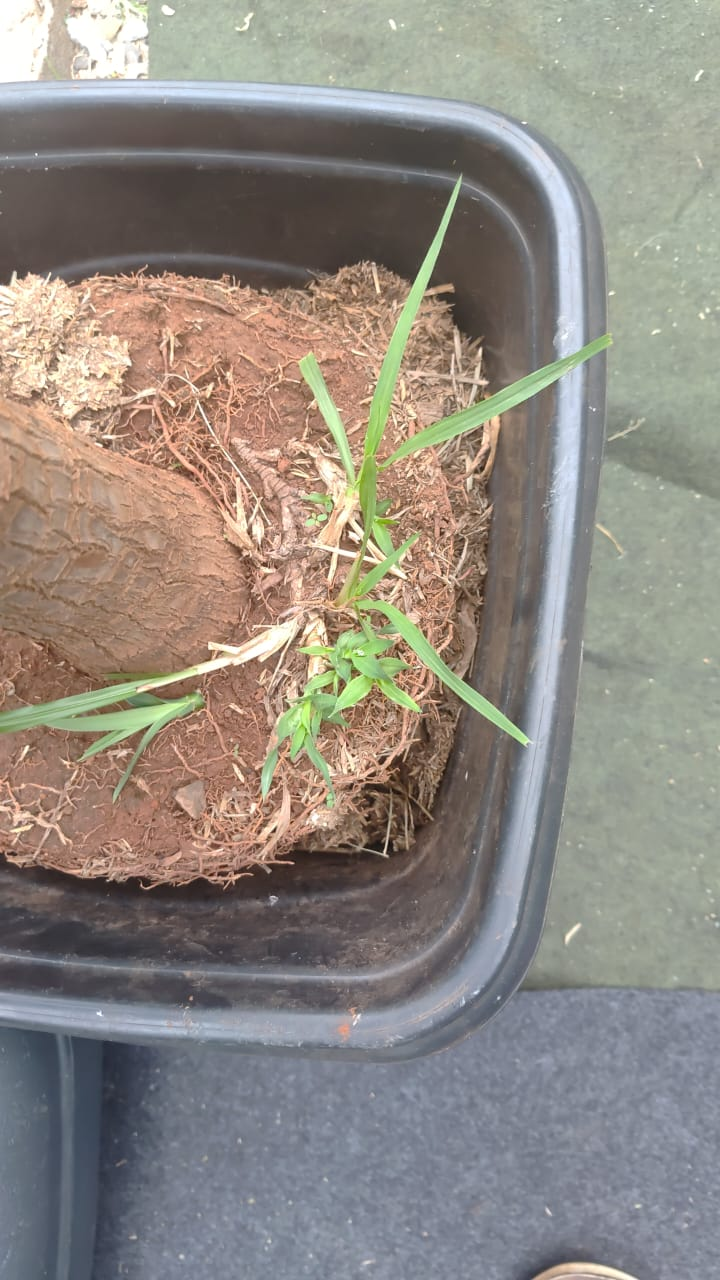Folha: (380, 598, 440, 669), (297, 351, 341, 438), (381, 680, 422, 714), (300, 491, 333, 513), (407, 533, 419, 546), (325, 499, 333, 512), (304, 517, 315, 526), (317, 513, 327, 521), (326, 799, 333, 808), (326, 792, 333, 800)
Germinacao: (268, 591, 525, 770), (296, 351, 360, 448), (294, 470, 333, 527), (325, 791, 334, 808)
